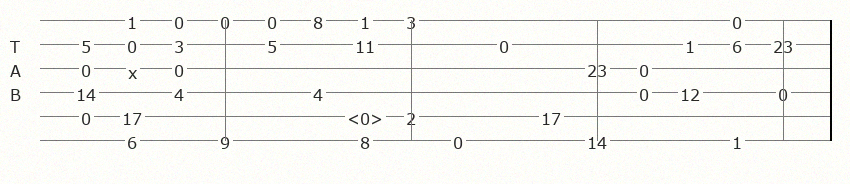0: (81, 60, 95, 76), (81, 108, 95, 124), (127, 36, 141, 52), (174, 12, 188, 28), (174, 60, 188, 76), (220, 12, 234, 28), (267, 12, 281, 28), (453, 132, 467, 148), (499, 36, 513, 52), (639, 84, 653, 100), (639, 60, 653, 76), (732, 12, 746, 28), (778, 84, 792, 100)
1: (127, 12, 141, 28), (360, 12, 374, 28), (685, 36, 699, 52), (732, 132, 746, 148)
11: (355, 36, 379, 52)
12: (680, 84, 704, 100)
14: (76, 84, 100, 100), (587, 132, 611, 148)
17: (122, 108, 146, 124), (541, 108, 565, 124)
2: (406, 108, 420, 124)
23: (587, 60, 611, 76), (773, 36, 797, 52)
3: (174, 36, 188, 52), (406, 12, 420, 28)
4: (174, 84, 188, 100), (313, 84, 327, 100)
5: (81, 36, 95, 52), (267, 36, 281, 52)
6: (127, 132, 141, 148), (732, 36, 746, 52)
8: (313, 12, 327, 28), (360, 132, 374, 148)
9: (220, 132, 234, 148)
harmonic: (347, 108, 387, 124)
x: (128, 62, 141, 75)
